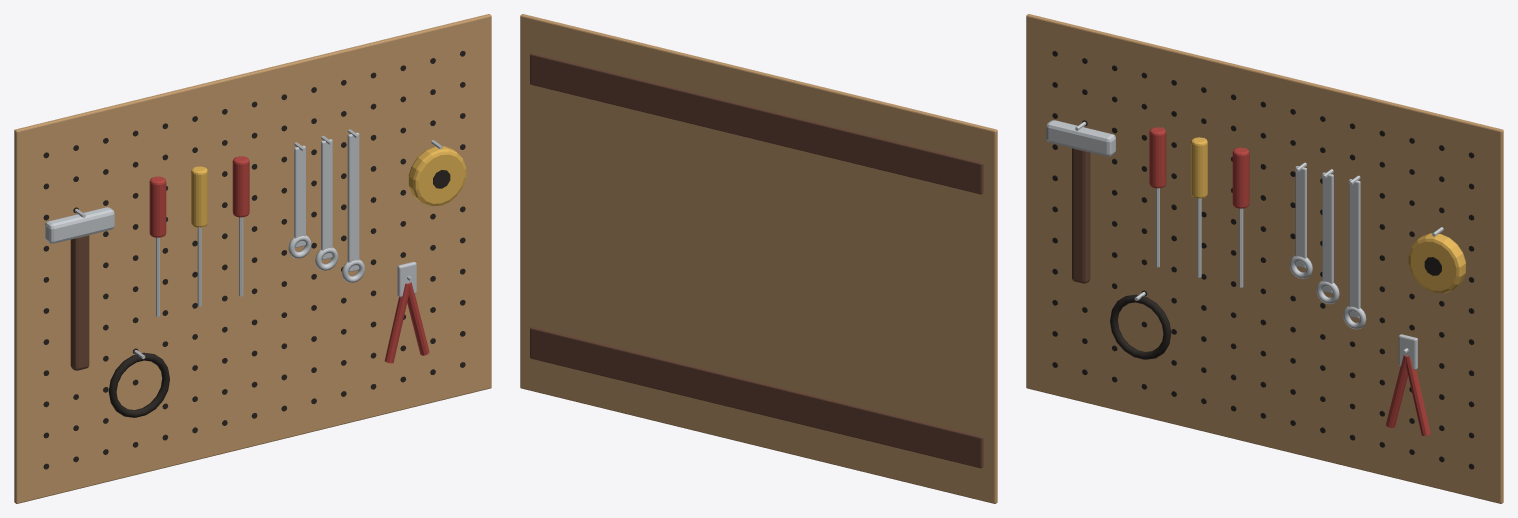
The model's file is hh_cat_pegboard.glb.
3 views of the same model, side by side, from view 1: azimuth 30°, elevation 25°; view 2: azimuth 150°, elevation 25°; view 3: azimuth 330°, elevation 25° (orthographic).
Parts seen in each view (by area): view 1: board, hammer_handle, tape_measure, spanner.004, hammer_head, cable_coil, spanner.002, spanner, screwdriver, screwdriver.002, screwdriver.001, pliers (+1 smaller); view 2: board, batten, batten.001; view 3: board, hammer_handle, tape_measure, hammer_head, spanner.004, cable_coil, spanner.002, spanner, screwdriver.002, screwdriver, screwdriver.001, pliers.001 (+2 smaller).
Boxes of the visible parts, x1,y1,x2,y2 form: board: (14,14,491,503); hammer_handle: (70,235,89,370); tape_measure: (408,146,466,206); spanner.004: (347,132,359,271); hammer_head: (45,207,114,243); cable_coil: (108,352,169,417); spanner.002: (321,139,332,259); spanner: (294,145,305,247); screwdriver: (149,176,166,237); screwdriver.002: (232,156,249,217); screwdriver.001: (191,166,207,227); pliers: (384,283,409,363); board: (520,14,997,503); batten: (530,327,983,468); batten.001: (530,53,983,194); board: (1026,14,1503,503); hammer_handle: (1072,148,1090,283); tape_measure: (1408,233,1465,293); hammer_head: (1046,120,1115,156); spanner.004: (1349,179,1360,318); cable_coil: (1110,294,1171,359); spanner.002: (1322,172,1333,293); spanner: (1295,166,1306,267); screwdriver.002: (1232,147,1249,208); screwdriver: (1149,127,1166,188); screwdriver.001: (1191,137,1207,198); pliers.001: (1406,356,1430,435).
Bounding box in the file's own units: 0.8 × 0.6 × 0.04.
